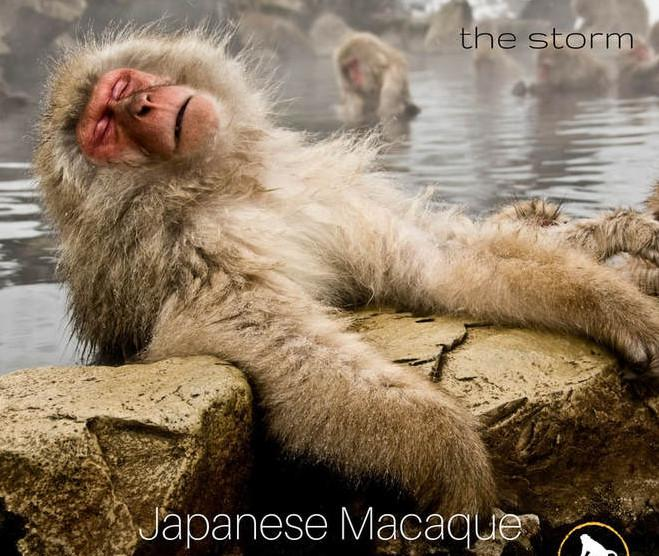monkey: (32, 30, 501, 524)
